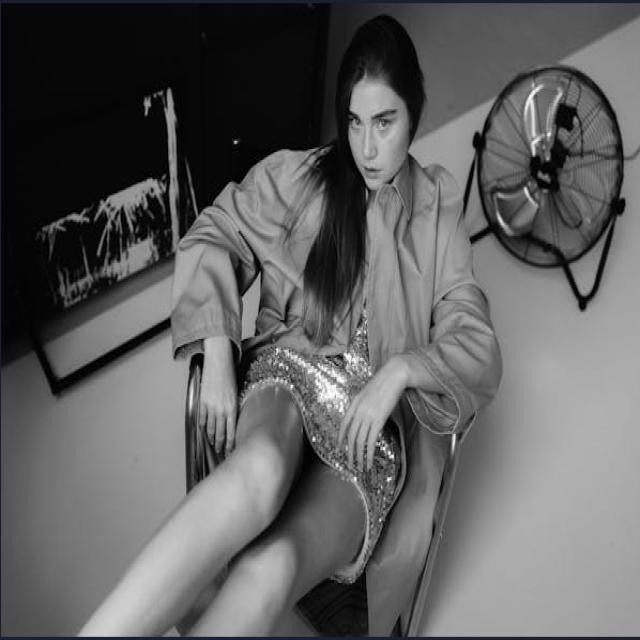Edited images: (66, 10, 526, 640)
